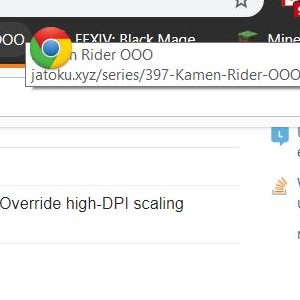chrome: (30, 26, 72, 71)
